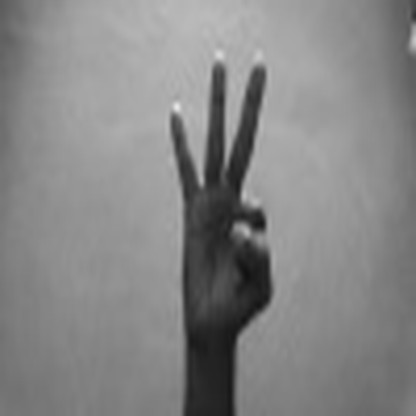f: (151, 53, 287, 345)
